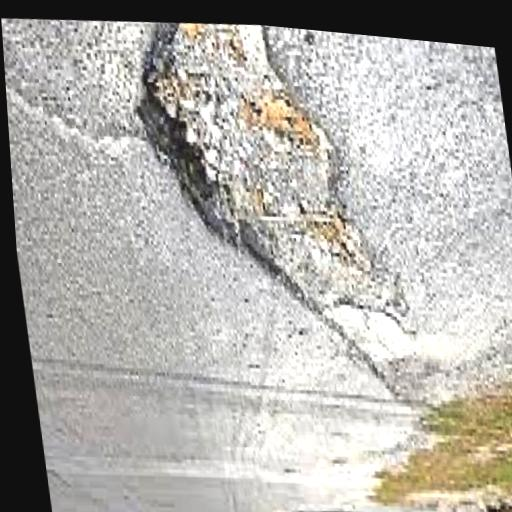pothole: (204, 172, 512, 467)
